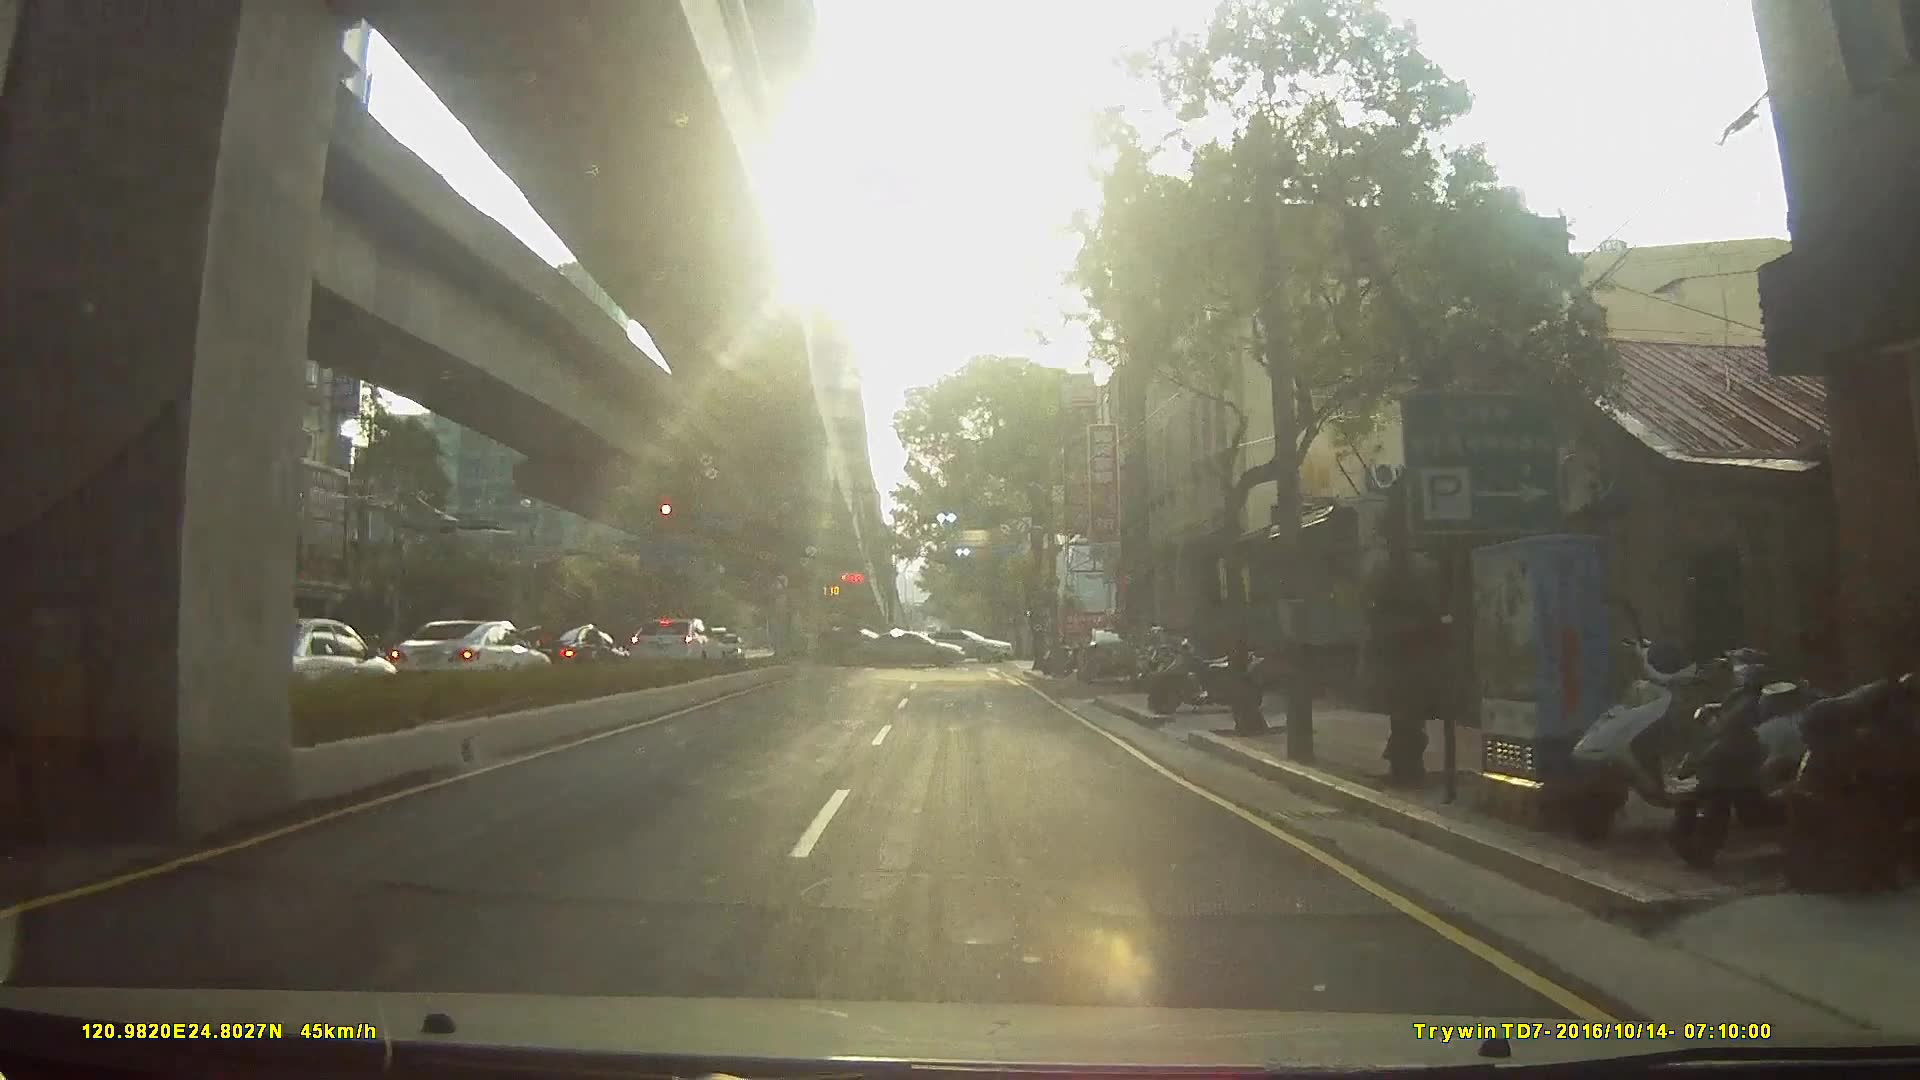vehicle: (196, 615, 388, 705), (380, 618, 546, 695), (502, 621, 628, 682), (622, 616, 728, 673), (862, 626, 975, 667), (1072, 622, 1145, 683), (818, 626, 899, 667), (930, 625, 1019, 662), (707, 632, 742, 665)
